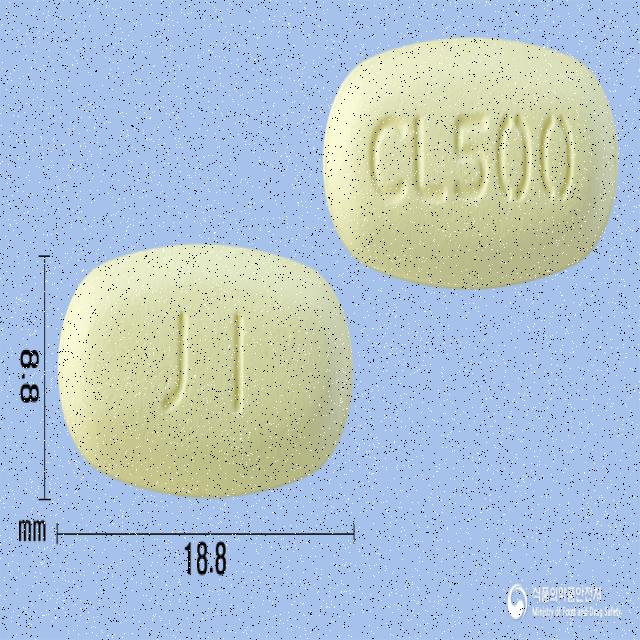Jecli: (58, 239, 352, 497), (323, 34, 619, 288)
